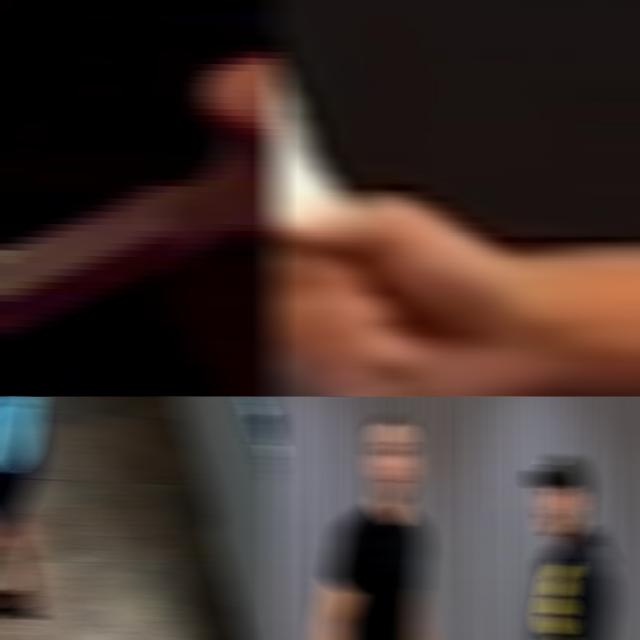Knife: (270, 0, 352, 221)
Knife_Handle: (270, 0, 534, 396), (0, 0, 280, 371)
